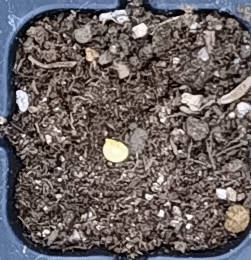pepper seed: (38, 56, 167, 219)
